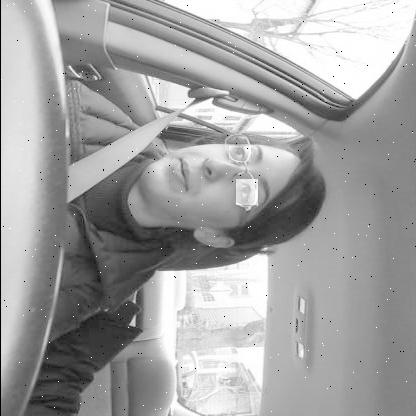seatbelt: (0, 81, 330, 259)
